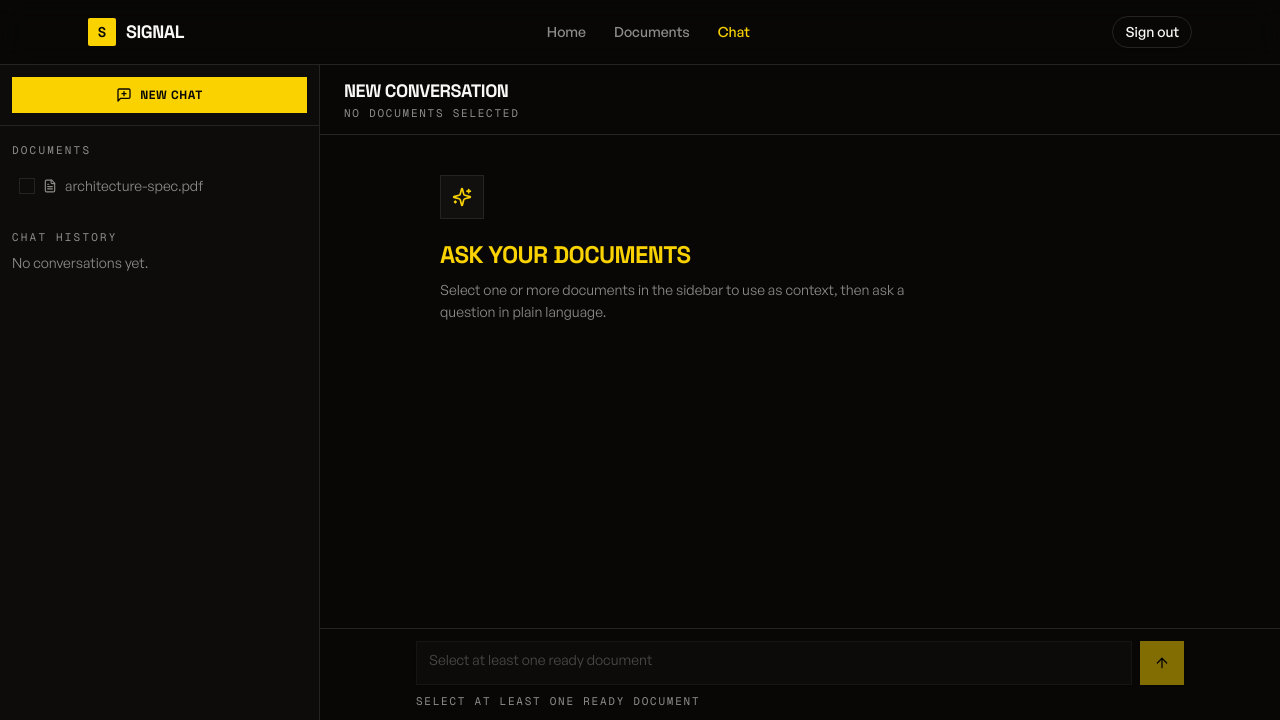
chat workspace › keeps the composer disabled until a ready document is selected
This screenshot has width=1280, height=720.
Expected: the text box with test id "chat.input" is disabled, top-left (416, 640), bottom-right (1132, 684)
Click the button with test id "chat.document_toggle.1" at (160, 186), box top-left (8, 166), bottom-right (311, 204)
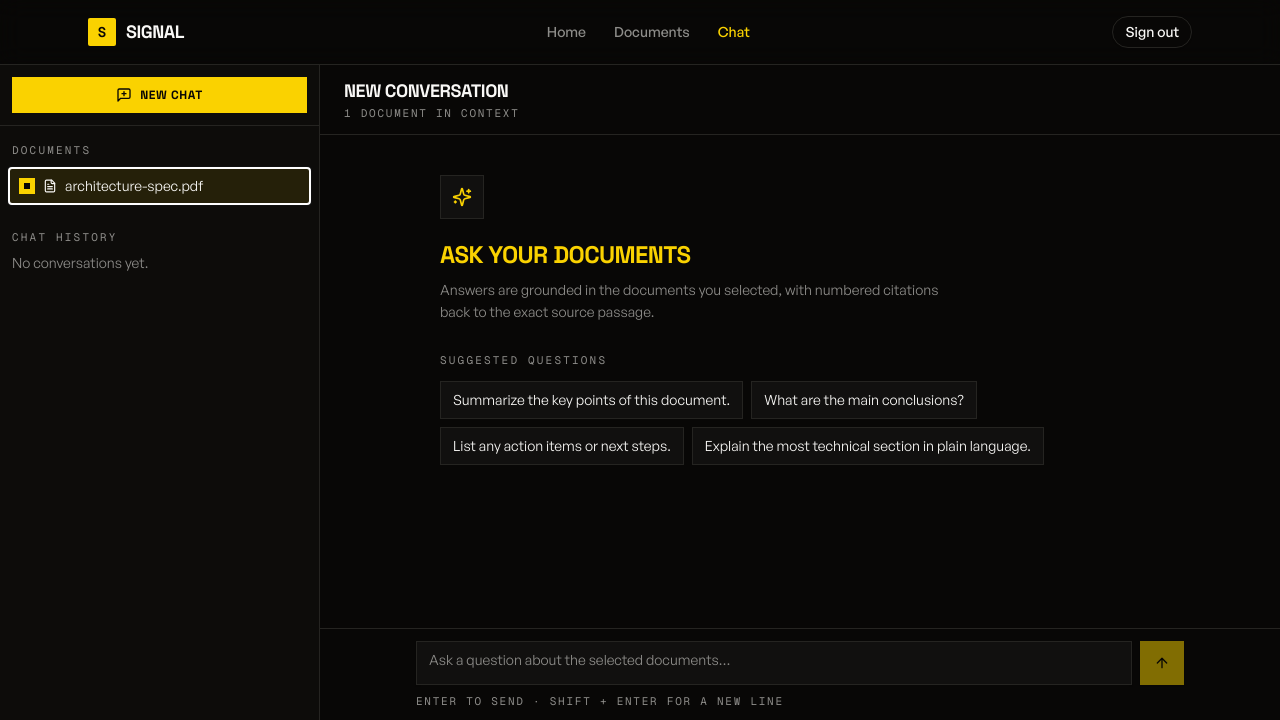
Now the text box with test id "chat.input" is enabled, box top-left (416, 640), bottom-right (1132, 684)
Now the button with test id "chat.suggested_question.1" is shown, box top-left (440, 380), bottom-right (743, 418)
